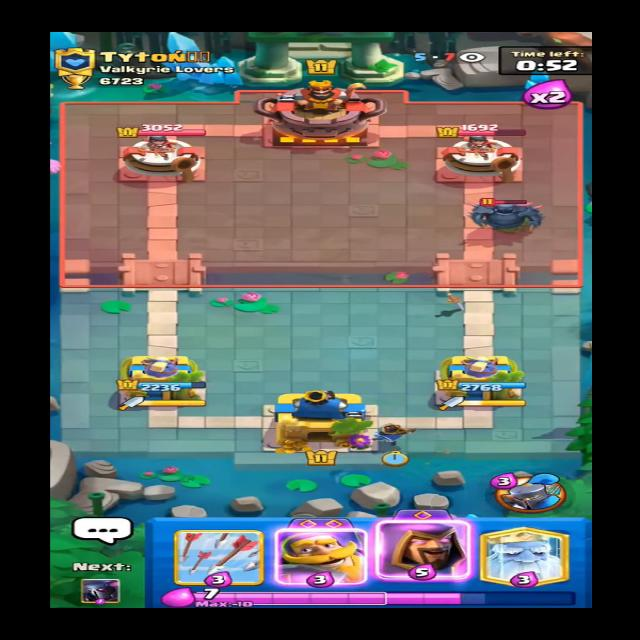pekka: (466, 188, 545, 235)
